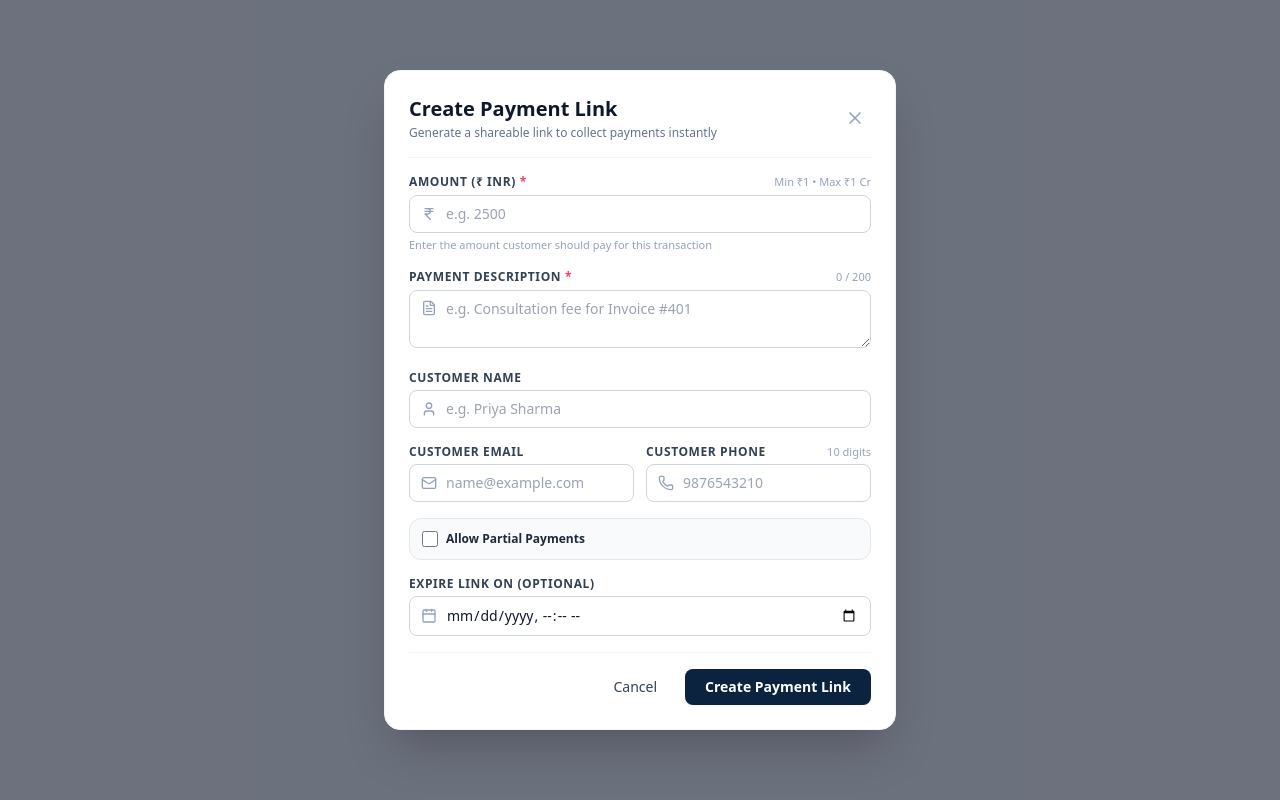
it: CreateLinkModal Component - Intensive Form UX & Restrictions Testing › should strictly restrict customer phone input to 10 digits and numbers only
# Attempt to type 14 characters with letters
Type "98765432109999" into the field labelled "Customer Phone" at (758, 483), box [646,464,871,502]
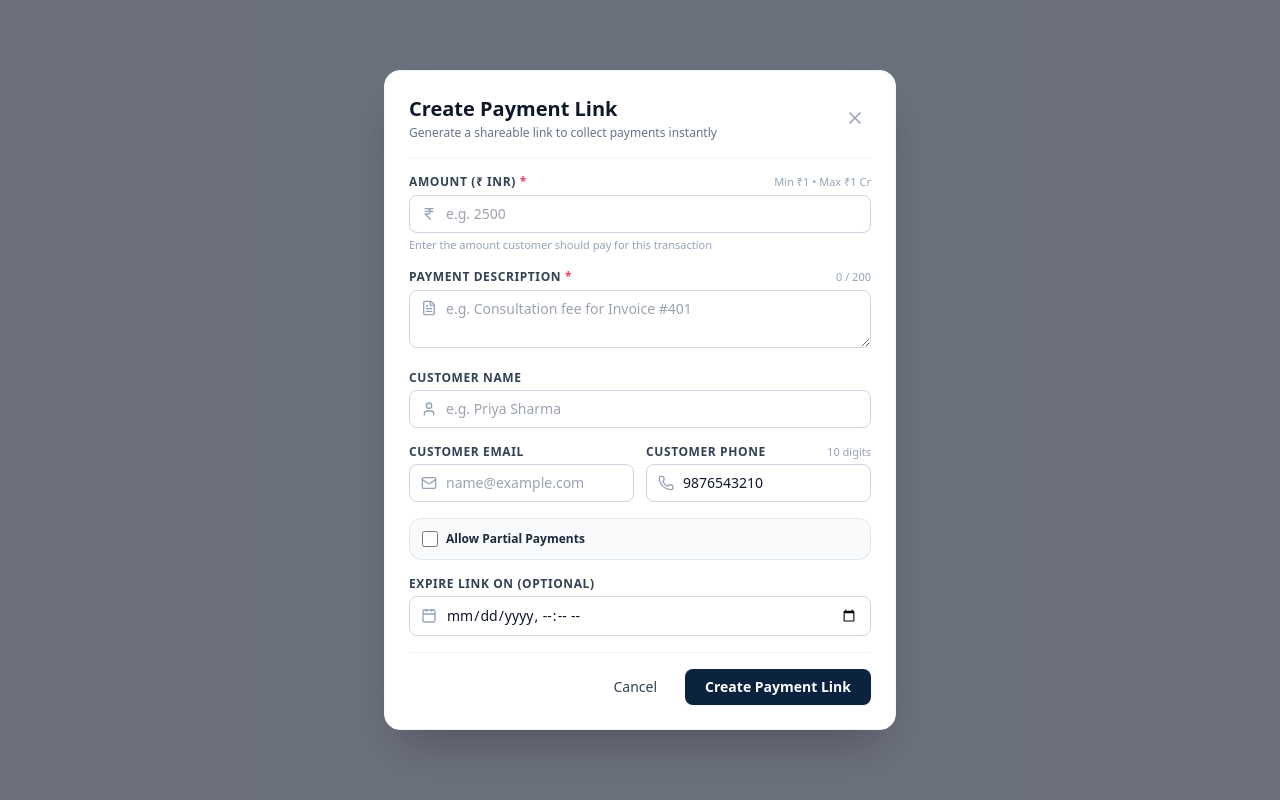
Now the field labelled "Customer Phone" holds "9876543210"
# Attempt to type non-numeric characters
Type "abc-98765-xyz" into the field labelled "Customer Phone" at (758, 483), box [646,464,871,502]
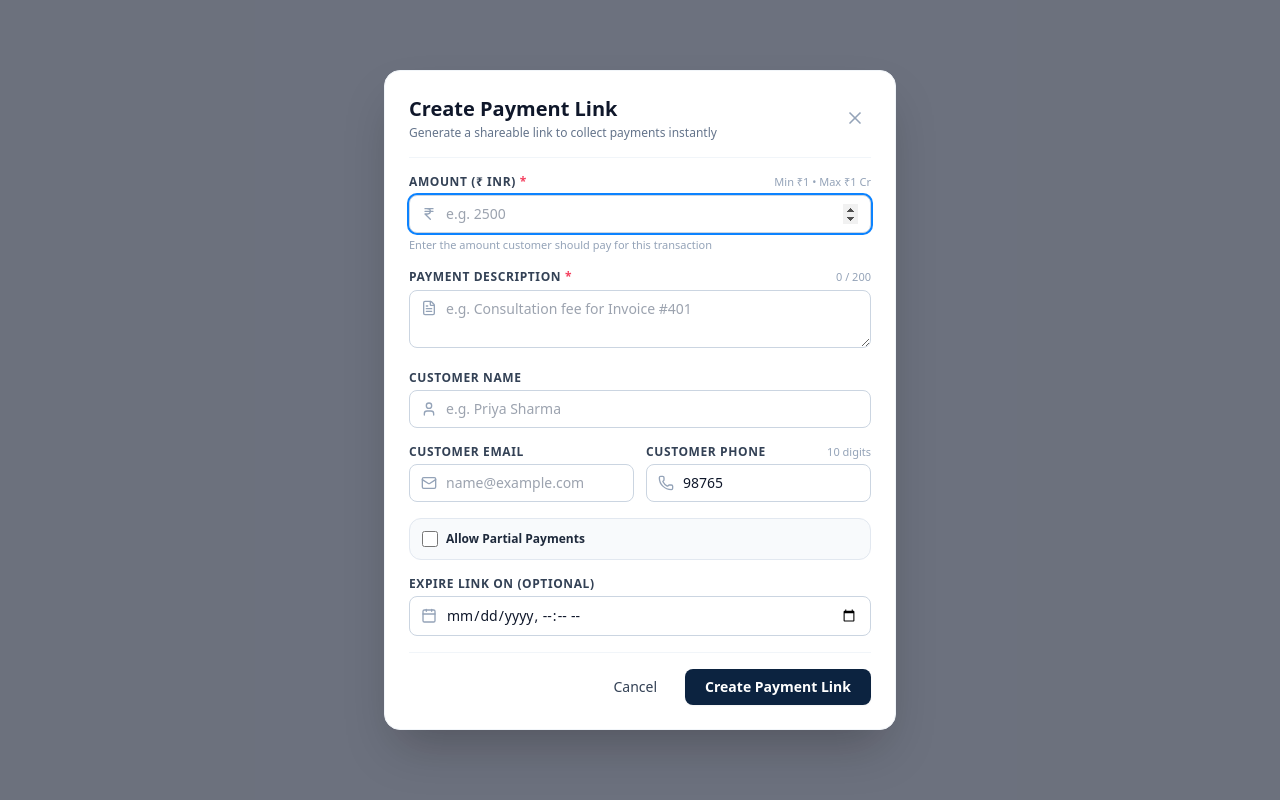
Now the field labelled "Customer Phone" holds "98765", box [646,464,871,502]
